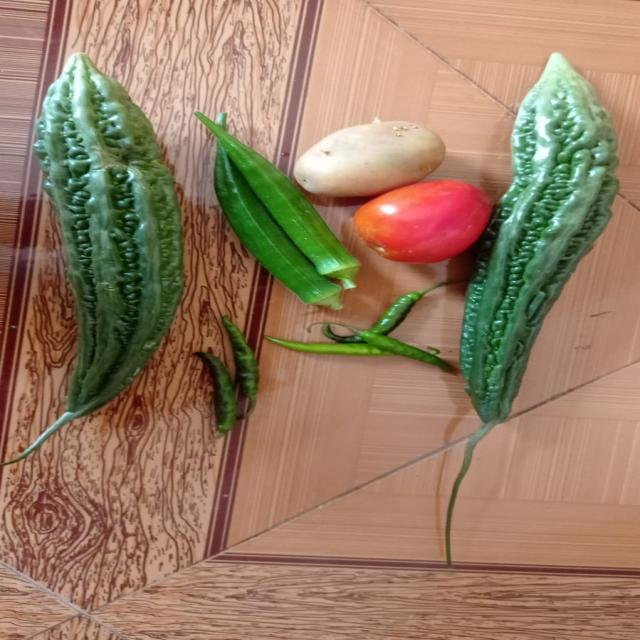Organik: (22, 46, 200, 480), (460, 50, 624, 432), (193, 131, 364, 311), (276, 111, 449, 197), (188, 312, 286, 444), (353, 175, 498, 263), (304, 319, 458, 378)
